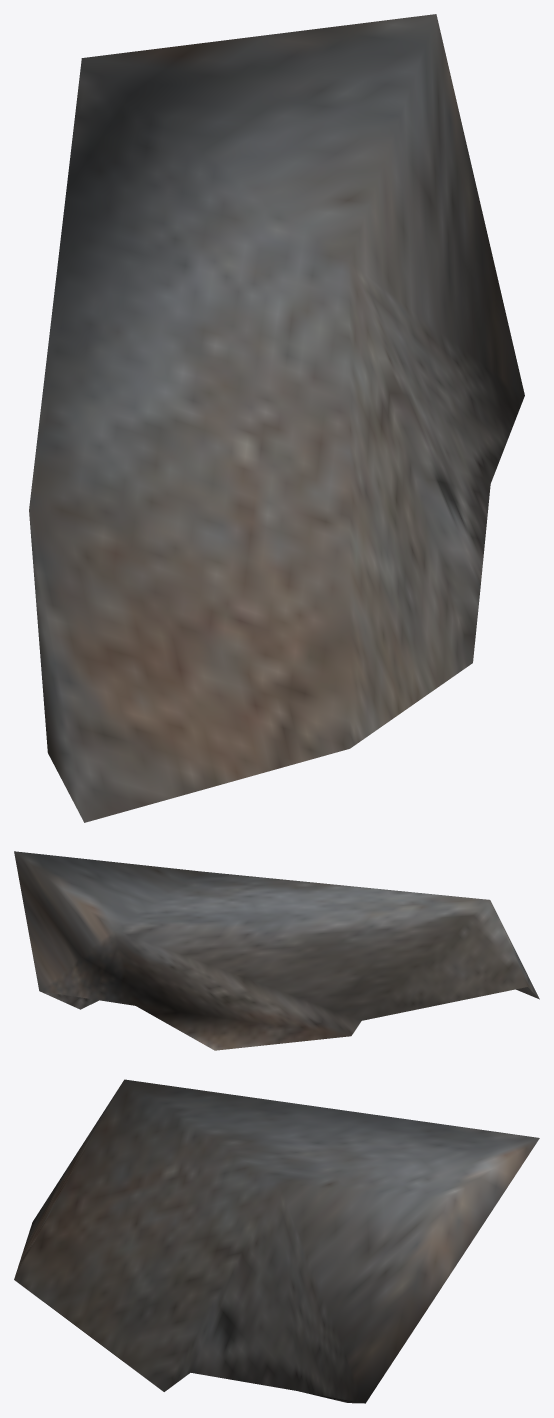
File: forest_rock_01.glb
3 views of the same model, one above another, from view 1: azimuth 30°, elevation 25°; view 2: azimuth 150°, elevation 25°; view 3: azimuth 270°, elevation 25° (orthographic). The views are drawn at different scales.
Parts seen in each view (by area): view 1: Rocks_Rocks_0; view 2: Rocks_Rocks_0; view 3: Rocks_Rocks_0.
Part boxes in pixels (<box>): Rocks_Rocks_0: <box>29,14,524,822</box>; Rocks_Rocks_0: <box>14,851,539,1050</box>; Rocks_Rocks_0: <box>14,1079,539,1403</box>.
Bounding box in the file's own units: 0.8959 × 0.5 × 0.9451.
Materials: 1 (1 with a texture image).
